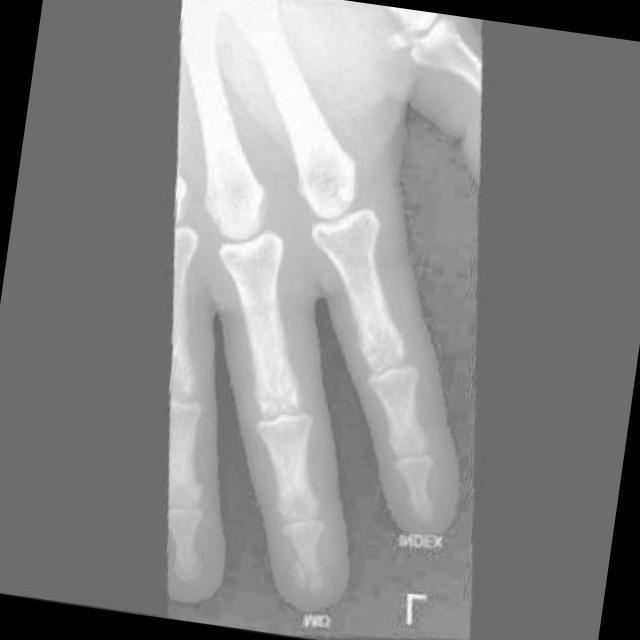bone: (282, 555, 321, 599)
